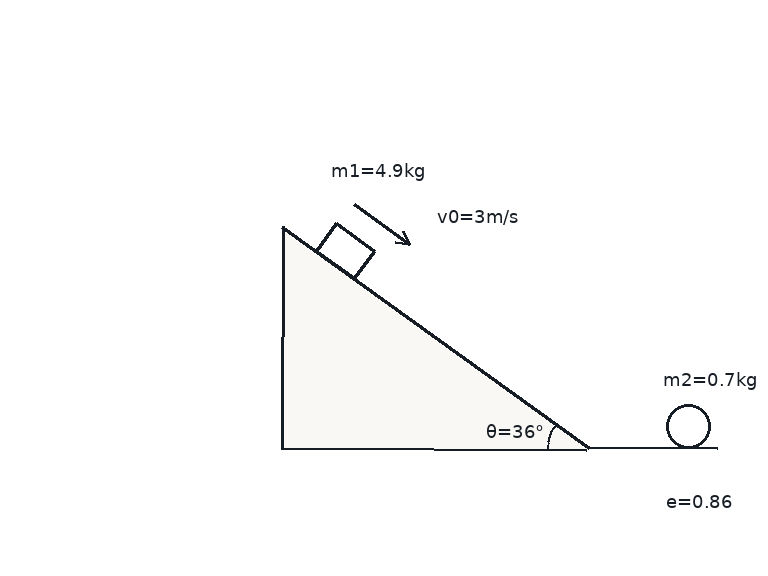ball: (664, 402, 712, 450)
block: (314, 221, 376, 280)
ramp: (280, 224, 590, 450)
